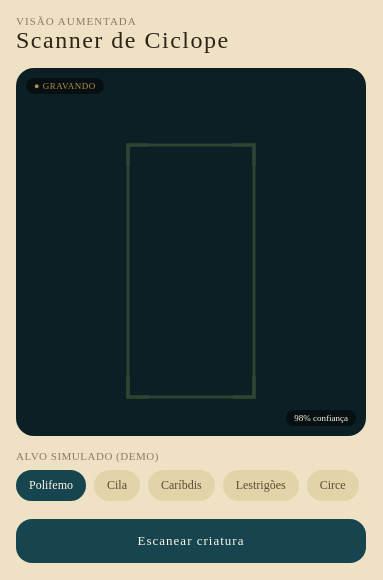
CyclopsScreen › troca de chip e atualiza a criatura exibida no badge de confiança
expect the text "98% confiança" is shown: met, box [294,412,348,422]
Click the radio button labelled "Cila". click: click(117, 485)
box: [94,470,140,500]
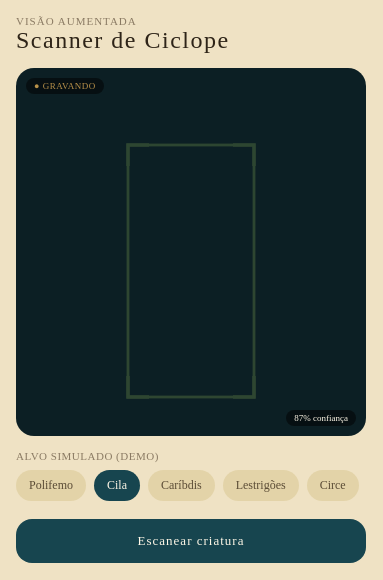
expect the text "87% confiança" is shown: met, box [294,412,348,422]
